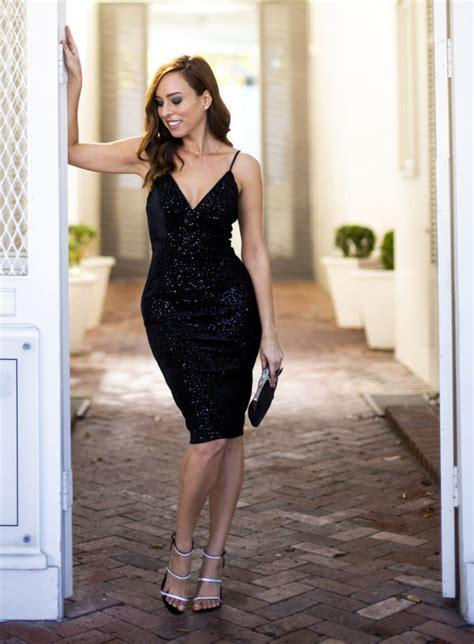dress: (140, 150, 264, 447)
